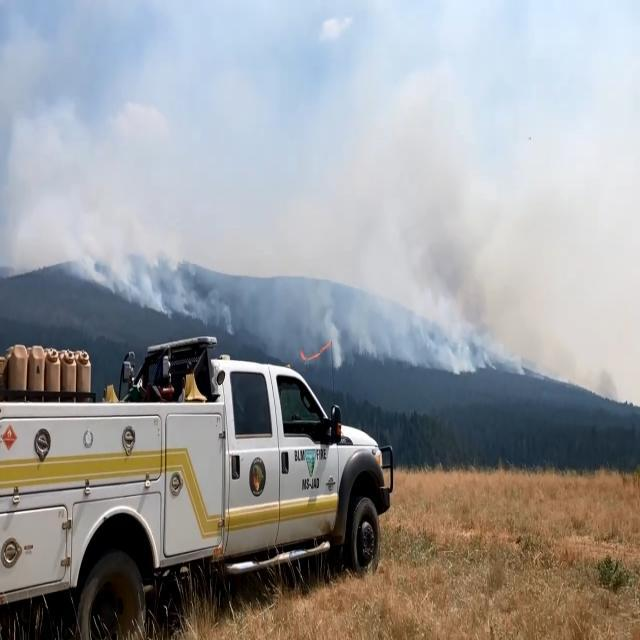Fire: (290, 330, 340, 368)
